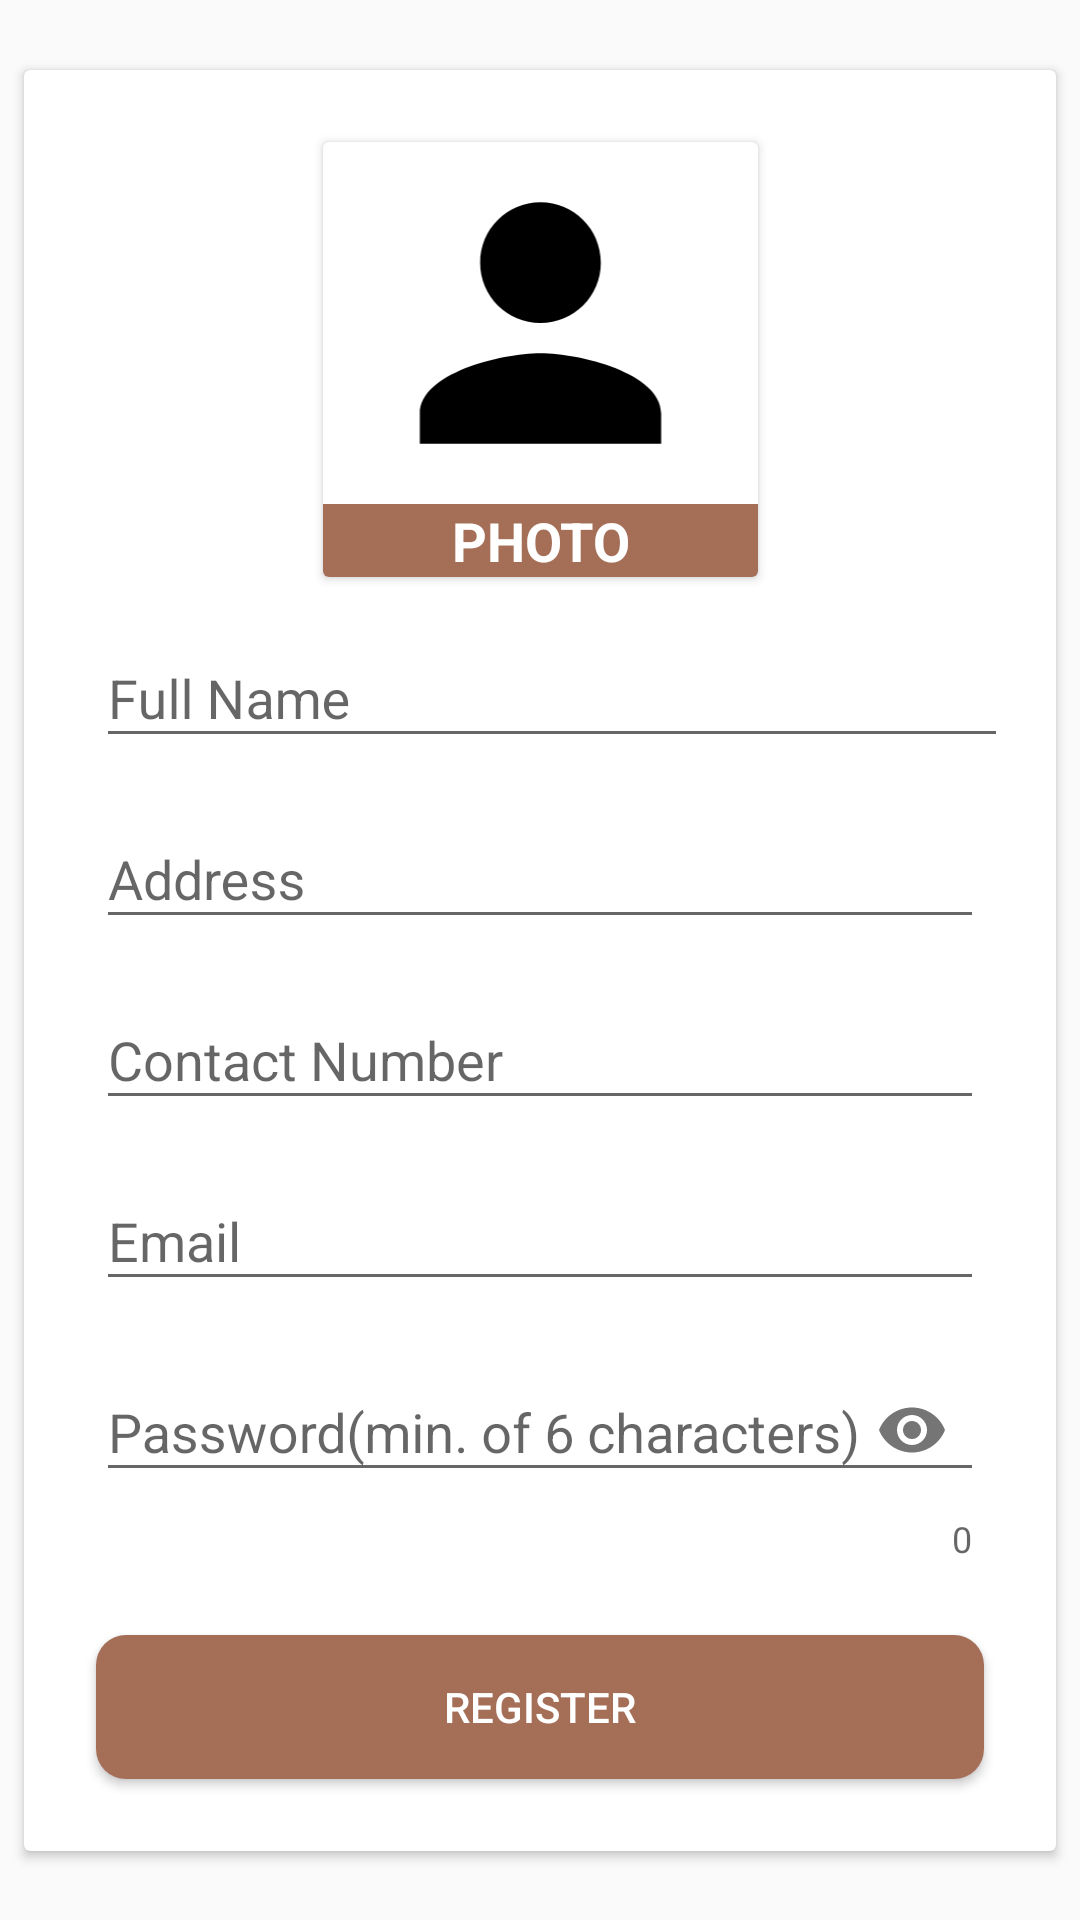

Icons on this 1080 × 1920 Android screen, each with its box as BBox(x1, y1, x2, y2):
person: BBox(419, 202, 662, 444)
